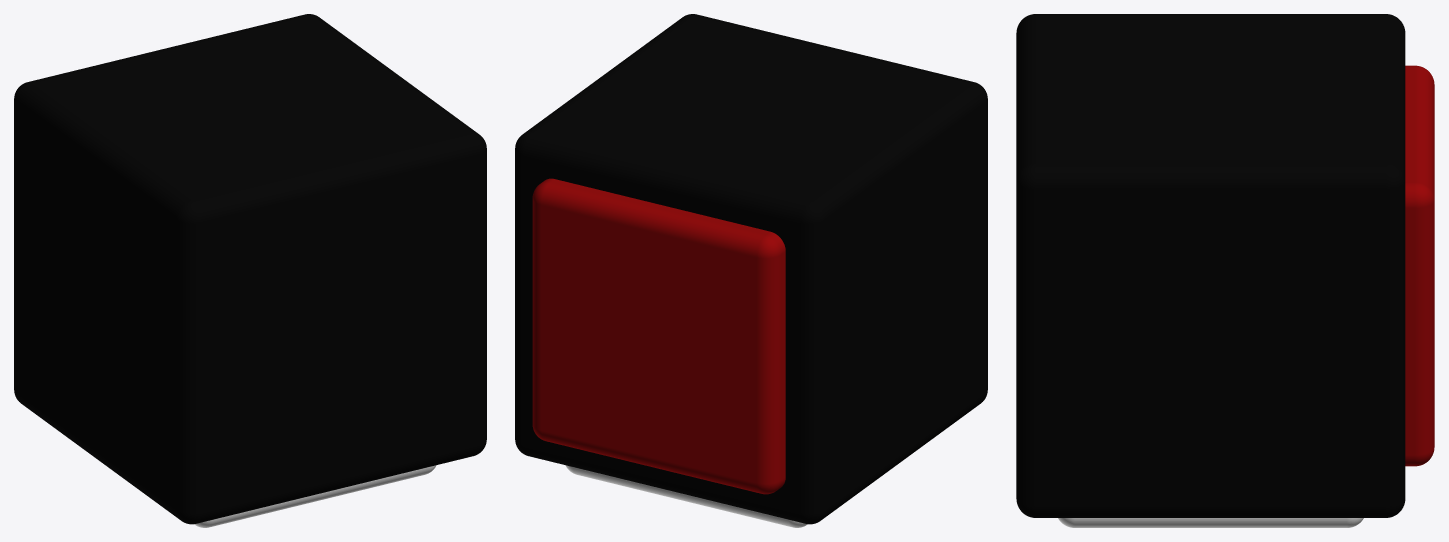
File: cubinho(0, -1, -1).obj
3 views of the same model, side by side, from view 1: azimuth 30°, elevation 25°; view 2: azimuth 150°, elevation 25°; view 3: azimuth 270°, elevation 25° (orthographic). The views are drawn at different scales.
Visible parts, largest first — view 1: (0,_-1,_-1); view 2: (0,_-1,_-1); view 3: (0,_-1,_-1).
Part boxes in pixels (bbox=[...]): (0,_-1,_-1): bbox=[14, 14, 486, 527]; (0,_-1,_-1): bbox=[515, 14, 987, 527]; (0,_-1,_-1): bbox=[1016, 14, 1434, 527].
Bounding box in the file's own units: 2 × 2.15 × 2.15.
